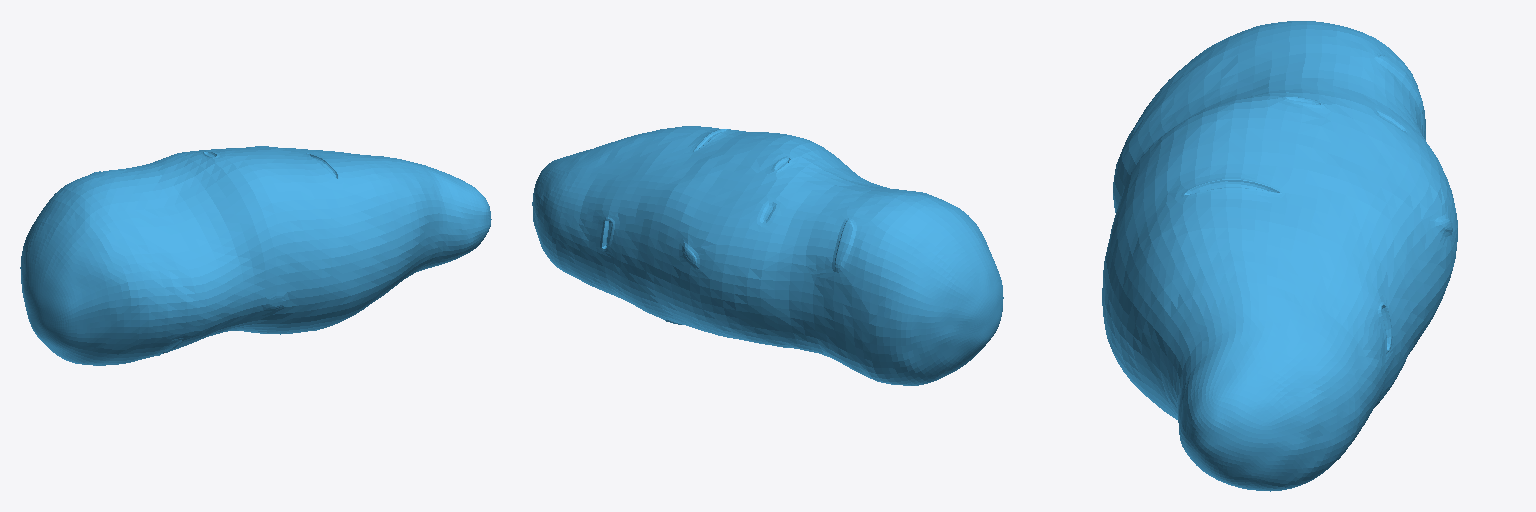
robot.urdf — free3dmodels_veggie_sweet_potato:
<?xml version="1.0" ?>
<robot name="free3dmodels_veggie_sweet_potato">
	<link name="base"/>
	<link name="link_1">
		<visual name="body-6">
			<origin xyz="0 0 0"/>
			<geometry>
				<mesh filename="sweetpotato.obj"/>
			</geometry>
		</visual>
		<collision>
			<origin xyz="0 0 0"/>
			<geometry>
				<mesh filename="sweetpotato.obj"/>
			</geometry>
		</collision>
	</link>
	<joint name="joint_1" type="fixed">
		<origin rpy="0 0 -1.570796326794897" xyz="0 0 0"/>
		<child link="link_1"/>
		<parent link="base"/>
	</joint>
</robot>

--- What the picture shows (computed from the rendered views, not written in the file) ---
The picture shows the robot from 3 angles, left to right: view 1: azimuth 30°, elevation 25°; view 2: azimuth 150°, elevation 25°; view 3: azimuth 270°, elevation 25°; orthographic projection.
Robot: free3dmodels_veggie_sweet_potato — 2 links, 1 joints (1 fixed); root link base; default pose: every joint at zero.
Visible links, largest first — view 1: link_1; view 2: link_1; view 3: link_1.
Link boxes in pixels (x1,y1,x2,y2): link_1: (20, 146, 491, 365); link_1: (532, 126, 1003, 385); link_1: (1102, 21, 1457, 491).
Bounding box of the posed robot: 10.42 × 4.77 × 4.04 m (x, y, z).
Meshes: 1 distinct files referenced, 1 mesh visuals loaded (1 OBJ).
